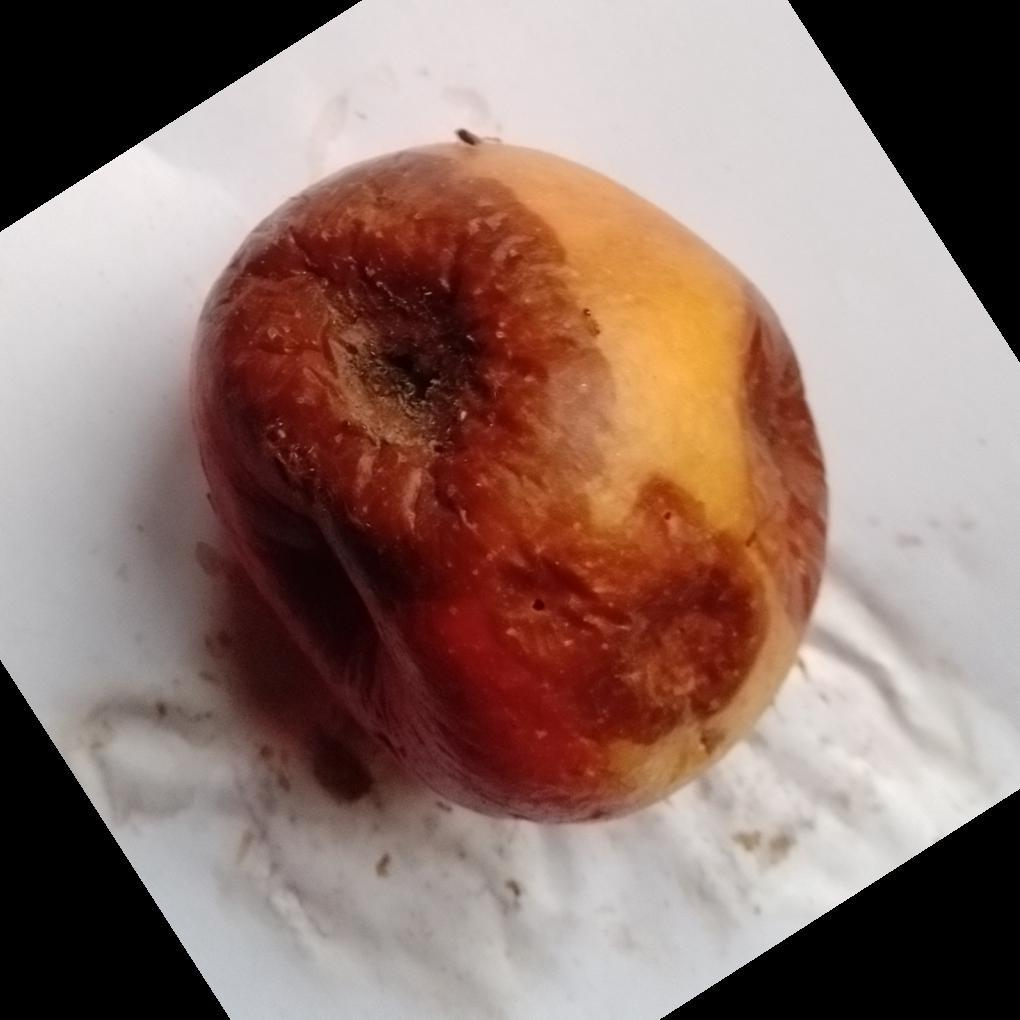FreshOrange: (187, 139, 830, 830)
